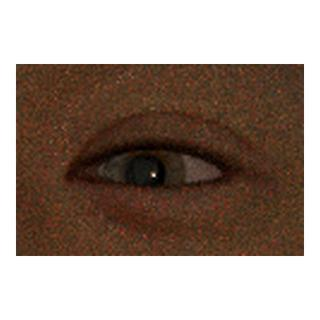pupil: (125, 154, 166, 195)
